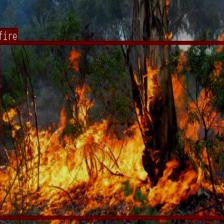fire: (0, 41, 224, 218)
